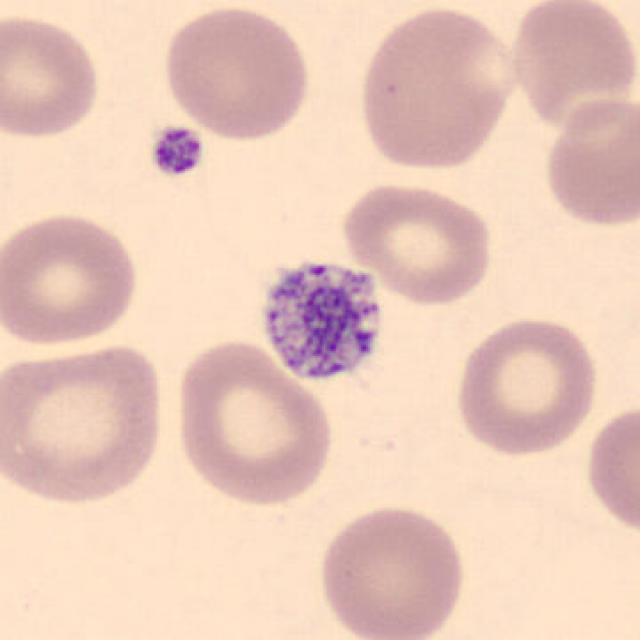Platelets: (254, 250, 393, 392), (146, 123, 208, 180)
RBC: (169, 335, 339, 510), (352, 2, 521, 175), (0, 338, 171, 508), (158, 1, 315, 144), (450, 312, 601, 458), (313, 499, 469, 640), (0, 206, 144, 351), (338, 178, 498, 307), (505, 0, 638, 134), (0, 9, 105, 143), (539, 92, 638, 231), (582, 398, 638, 542)
